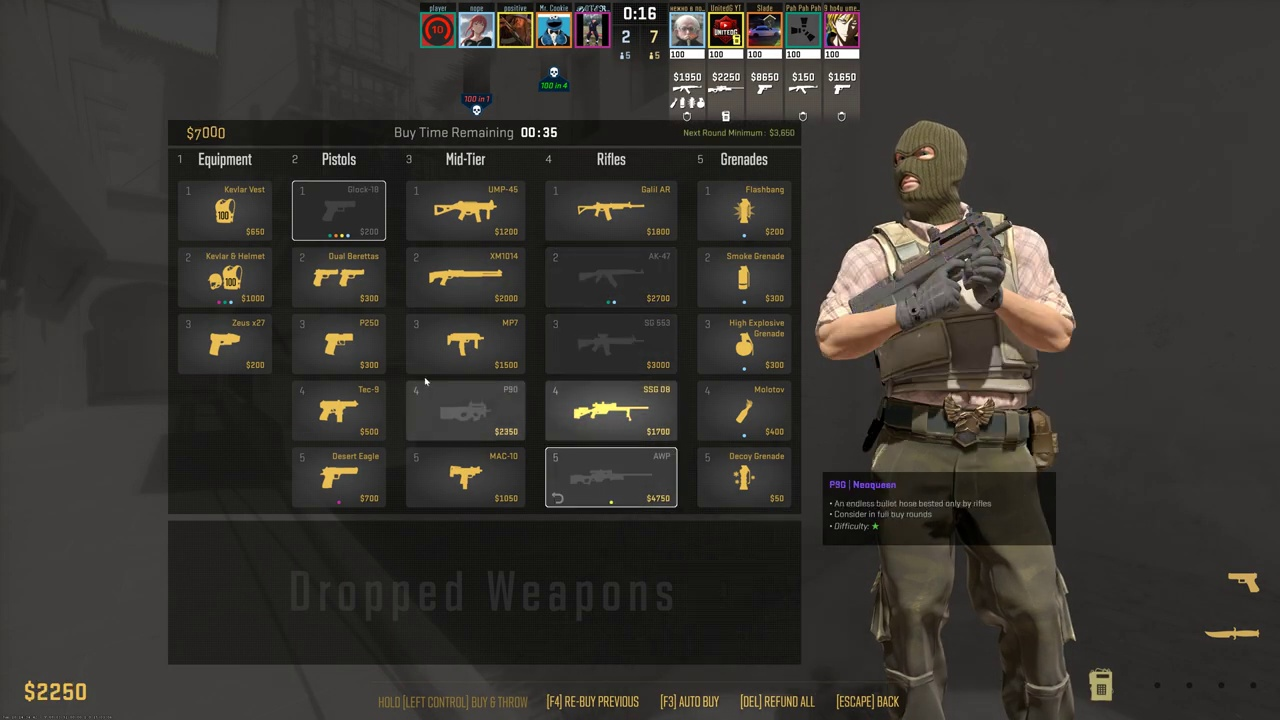Terrorist: (858, 125, 1075, 719)
